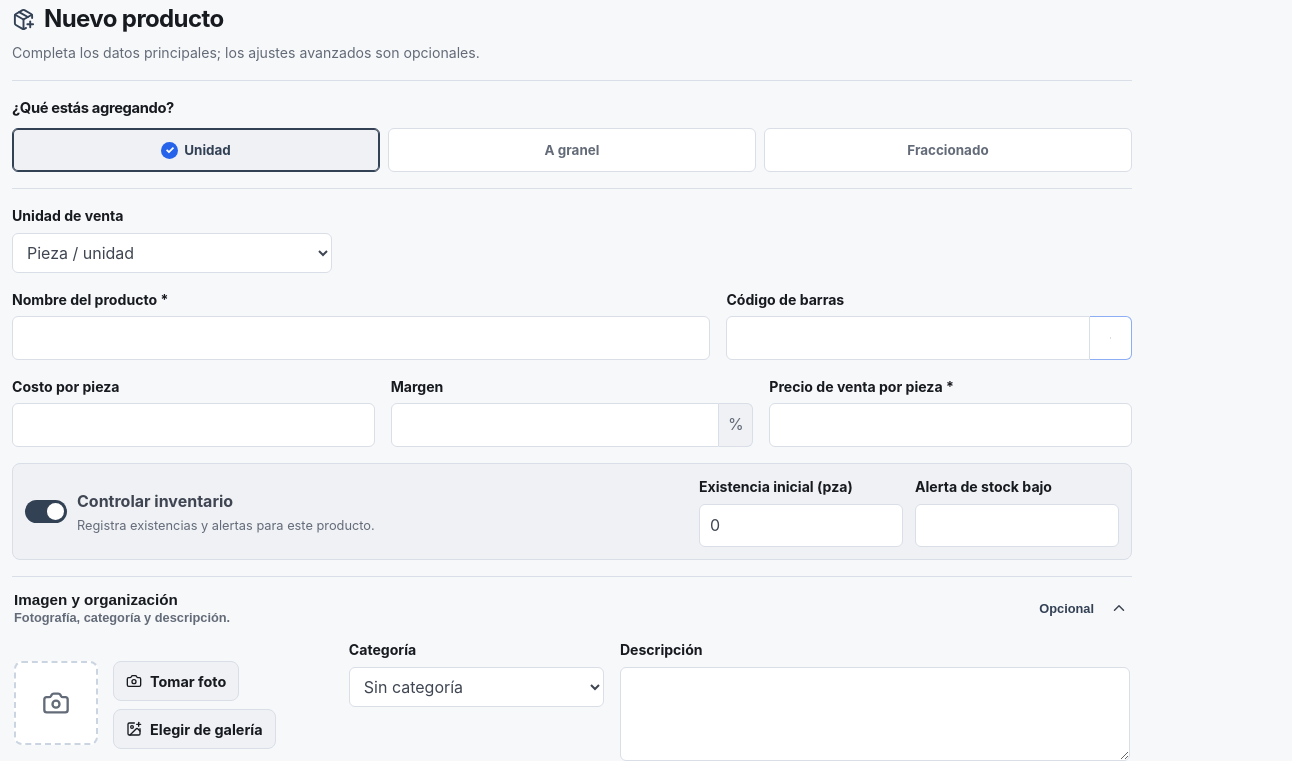
Test: ProductFormV2 › renders main fields and hides only inventory fields when stock control is disabled
Expected: the field labelled "Nombre del producto *" is shown, [12, 316, 710, 360]
Expected: the number field labelled "Existencia inicial (pza)" is shown, [699, 504, 903, 547]
Step 1. Click the checkbox labelled "Controlar inventario" → (46, 511), box [25, 500, 67, 523]
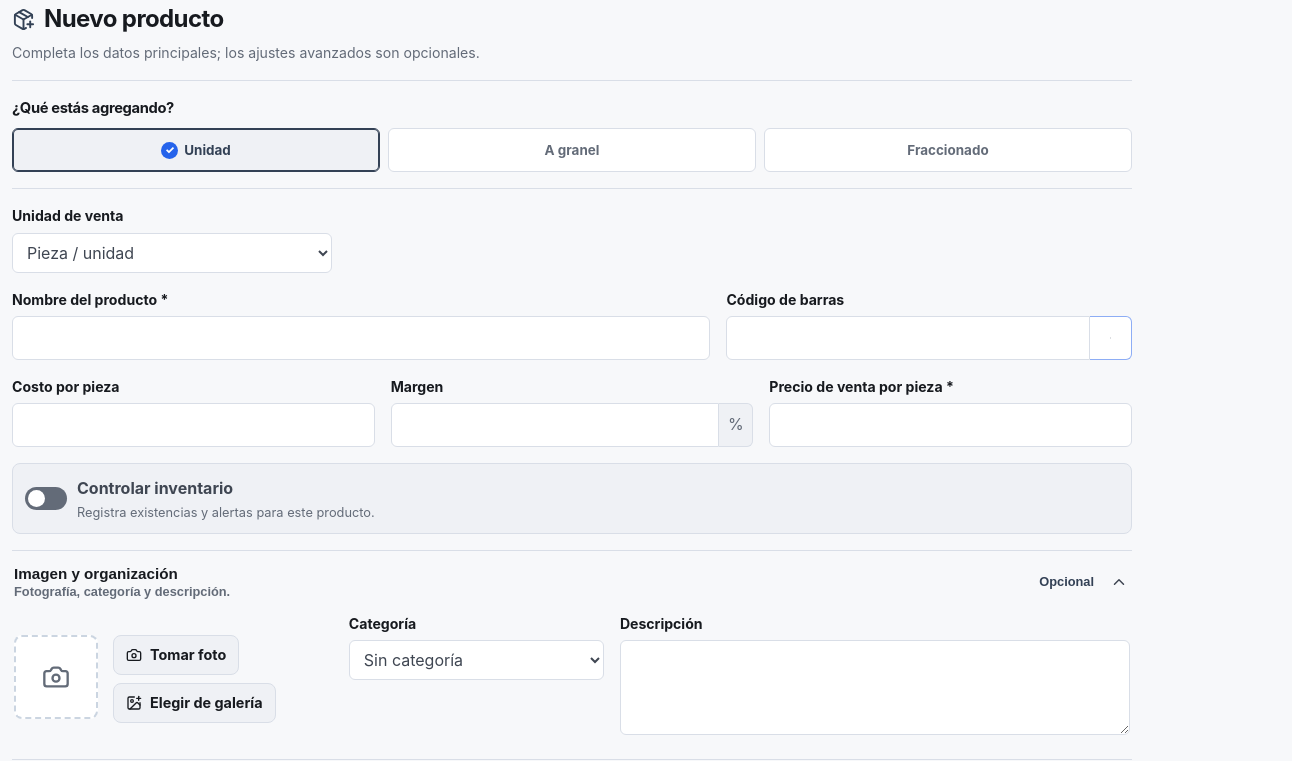
Expected: the field labelled "Nombre del producto *" is shown, [12, 316, 710, 360]
Result: the label labelled "Existencia inicial" is gone
